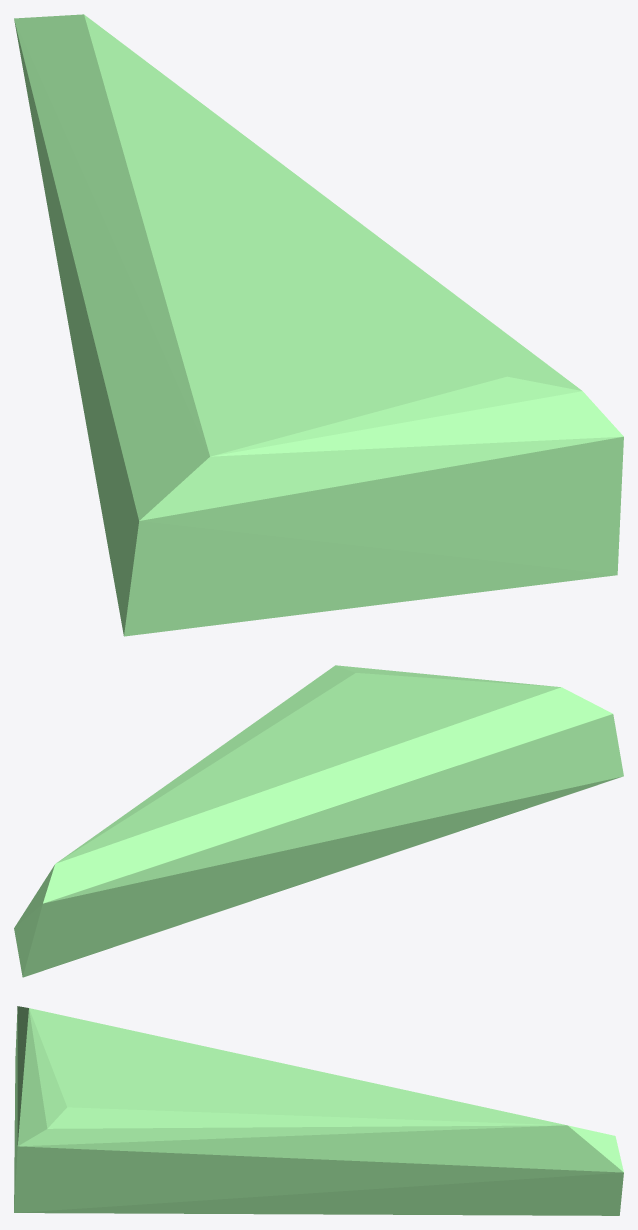
Rendered from UMIRobot_UMIRobot_link_3_convex_coll_26.dae.
The picture shows the model from 3 angles, top to bottom: view 1: azimuth 30°, elevation 25°; view 2: azimuth 150°, elevation 25°; view 3: azimuth 270°, elevation 25°; orthographic projection. The views are drawn at different scales.
Visible parts, largest first — view 1: node; view 2: node; view 3: node.
Part boxes in pixels (x1,y1,x2,y2): node: [14, 14, 623, 636]; node: [14, 665, 623, 977]; node: [14, 1006, 623, 1215].
Size of the model in its own units: 0.0204 by 0.00777 by 0.0405.
